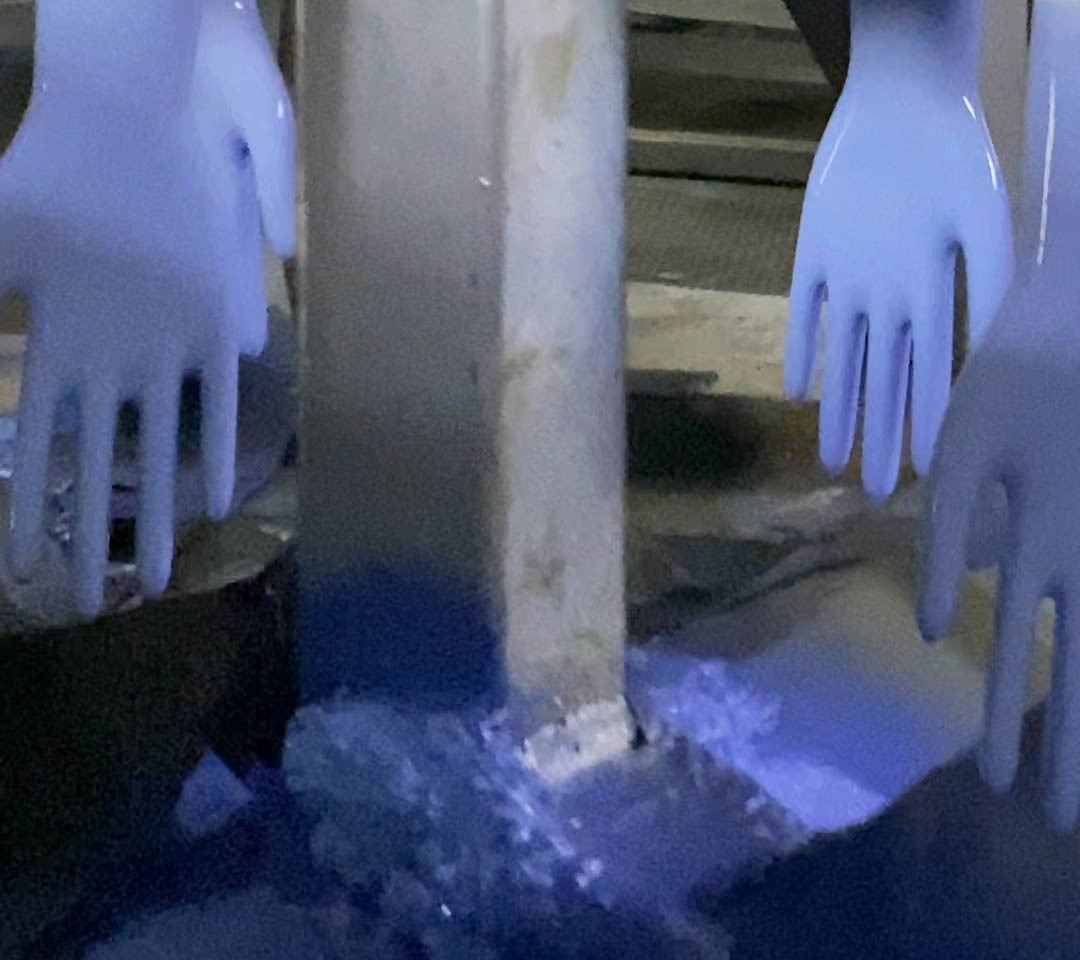glove: (1, 1, 298, 618), (916, 1, 1080, 841), (777, 1, 1010, 496)
